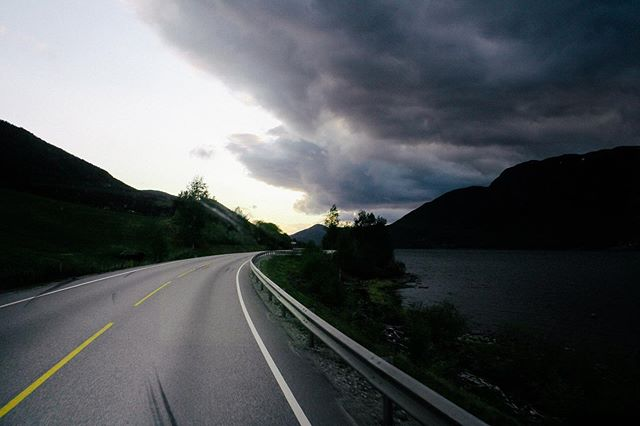mountain: (1, 105, 270, 215), (405, 122, 640, 223)
road: (1, 248, 319, 426)
sea: (392, 252, 640, 348)
sky: (1, 1, 640, 170)
